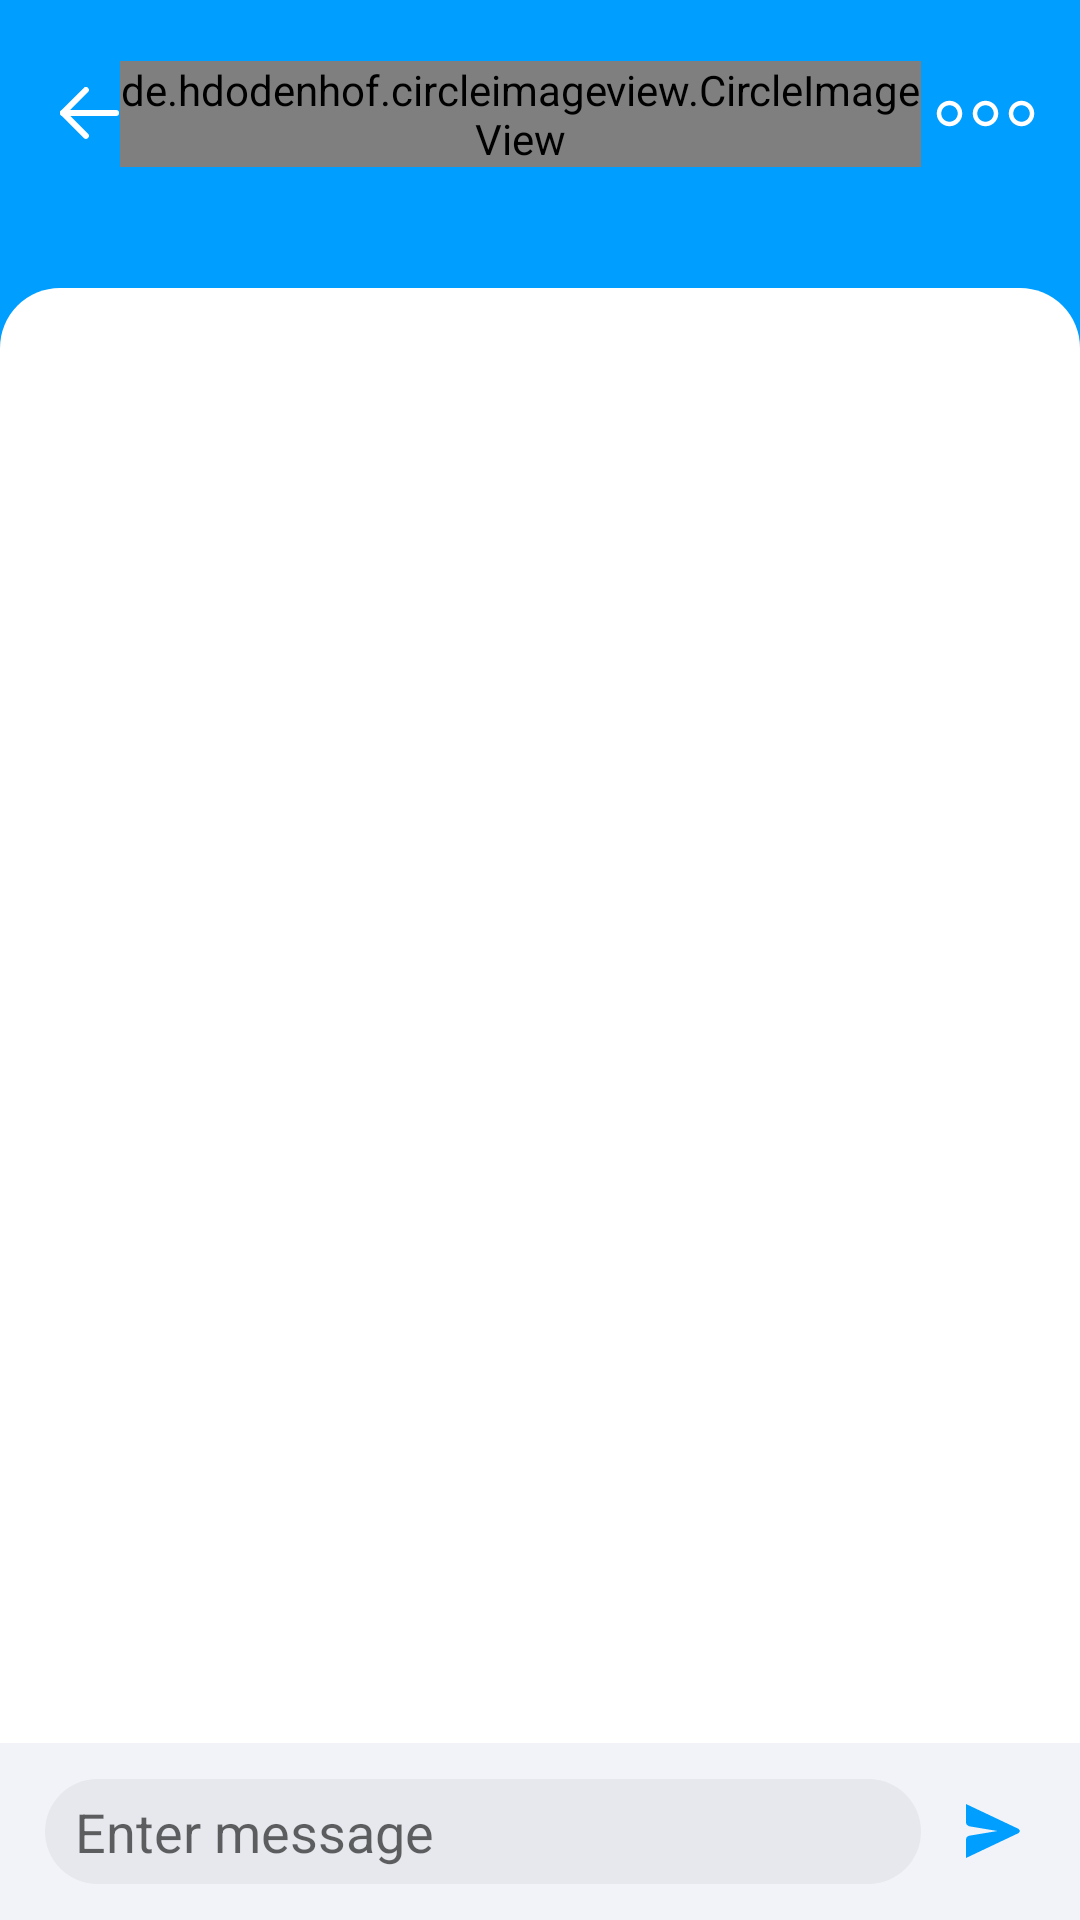

Where icons sit on this 1080w x 1920h app screen, as rect(x1, y1, x2, y2):
plane arrow: rect(966, 1804, 1020, 1858)
